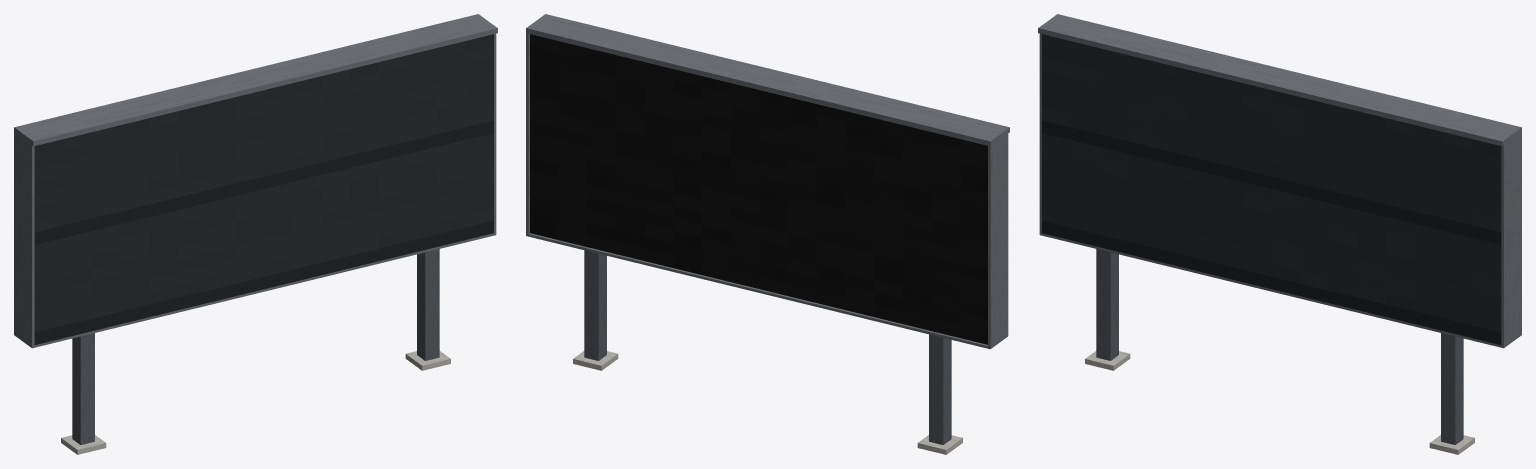
File: field_scoreboard.obj
3 views of the same model, side by side, from view 1: azimuth 30°, elevation 25°; view 2: azimuth 150°, elevation 25°; view 3: azimuth 330°, elevation 25° (orthographic).
Parts seen in each view (by area): view 1: field_scoreboard; view 2: field_scoreboard; view 3: field_scoreboard.
Boxes of the visible parts, bbox=[...] form: field_scoreboard: bbox=[14, 14, 497, 454]; field_scoreboard: bbox=[526, 14, 1009, 454]; field_scoreboard: bbox=[1038, 14, 1521, 454].
Bounding box in the file's own units: 12.12 × 8.12 × 0.875.
